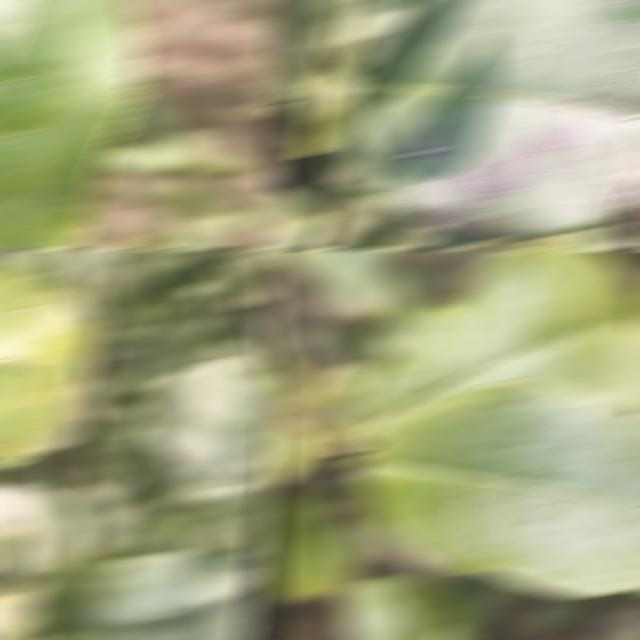Leaf: (339, 1, 640, 239), (354, 380, 640, 595), (352, 250, 640, 445), (0, 1, 141, 248), (26, 552, 263, 639), (128, 360, 279, 484), (337, 575, 468, 639), (268, 250, 390, 317), (268, 497, 347, 599), (0, 250, 123, 301), (293, 67, 358, 156), (268, 1, 323, 102), (29, 490, 82, 571), (268, 188, 327, 248), (343, 1, 425, 44), (268, 351, 316, 408), (303, 1, 352, 48), (5, 526, 43, 577), (0, 525, 34, 574), (0, 486, 40, 527)
